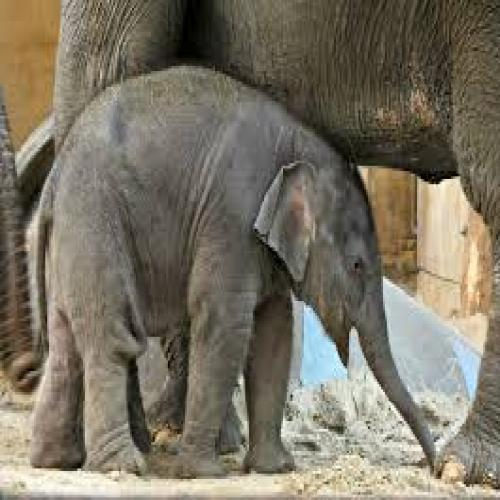asian_elephant-endangered: (2, 2, 500, 479), (31, 66, 443, 475)
